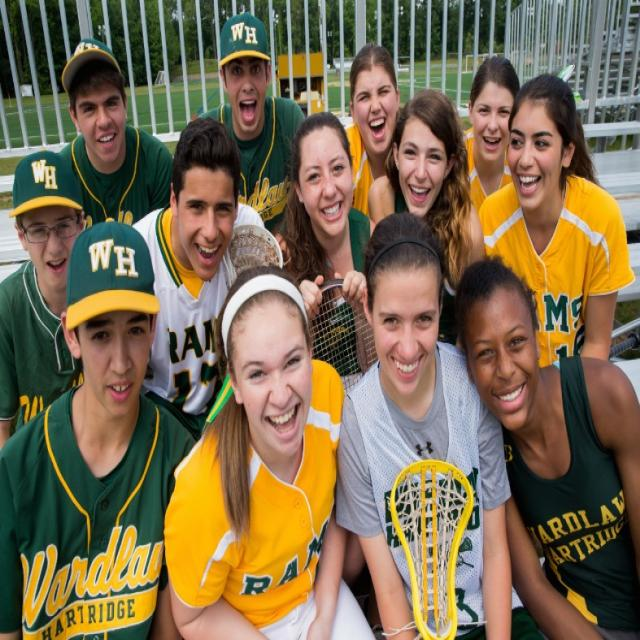body: (153, 251, 397, 639), (0, 218, 194, 639), (334, 214, 513, 640), (451, 249, 639, 639), (476, 70, 638, 366), (130, 114, 286, 419), (272, 103, 386, 400), (365, 87, 488, 336), (191, 9, 312, 240), (0, 145, 90, 453), (54, 31, 176, 230), (342, 37, 405, 226), (457, 53, 524, 219), (455, 52, 523, 212)
